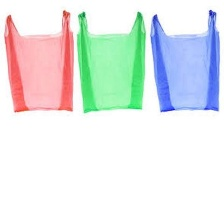plastic_bag: (0, 5, 77, 115), (147, 6, 224, 114), (76, 8, 151, 114)
